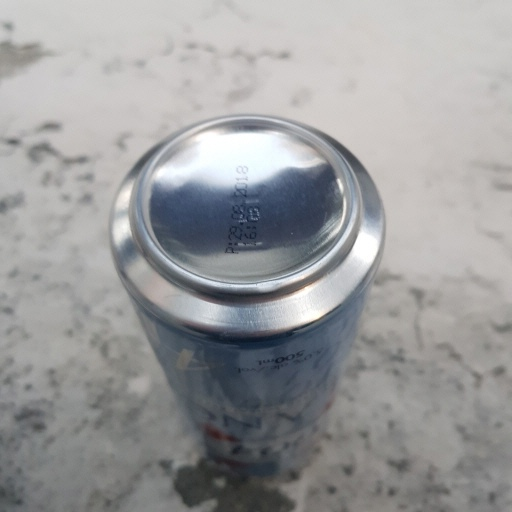Metal_0: (107, 114, 387, 475)
